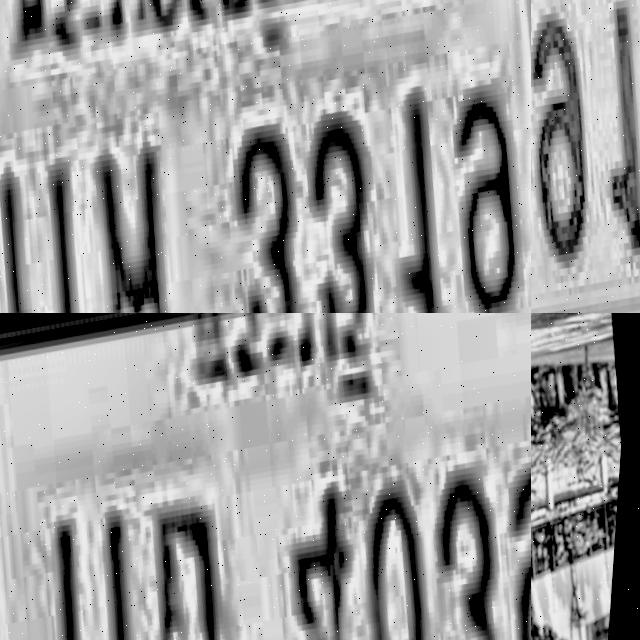license-plate: (0, 313, 531, 640), (0, 0, 531, 313), (531, 0, 640, 313)
